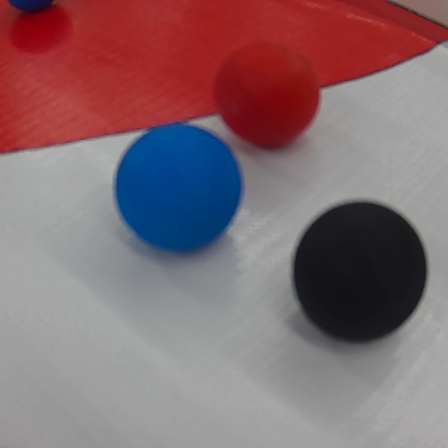black: (290, 198, 427, 352)
blue: (110, 119, 242, 257)
red: (216, 46, 323, 148)
red_base: (0, 0, 436, 145)
